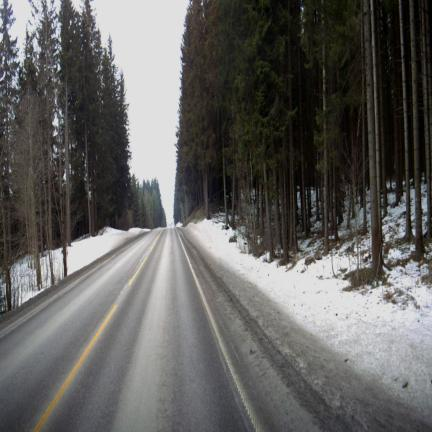Road: (0, 229, 318, 430)
